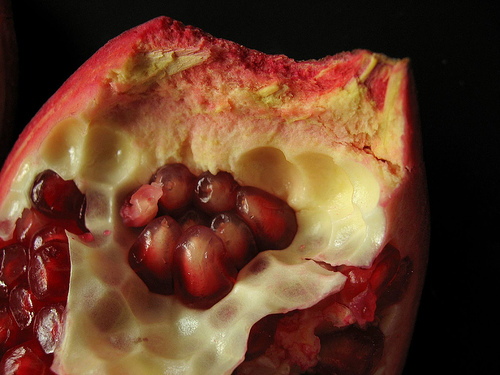pomogranate: (2, 16, 421, 374)
